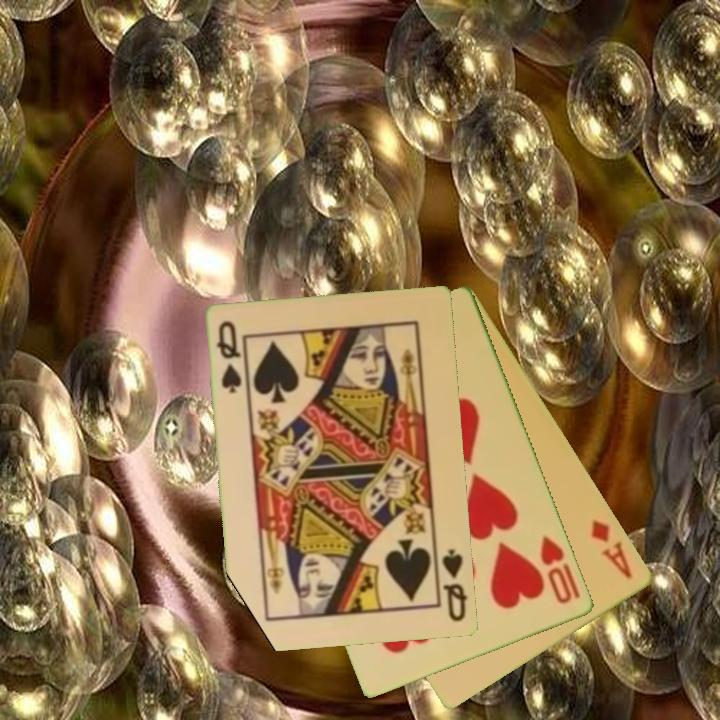10h: (537, 532, 576, 607)
Ad: (588, 516, 636, 582)
Qs: (439, 546, 471, 625), (214, 318, 245, 396)
